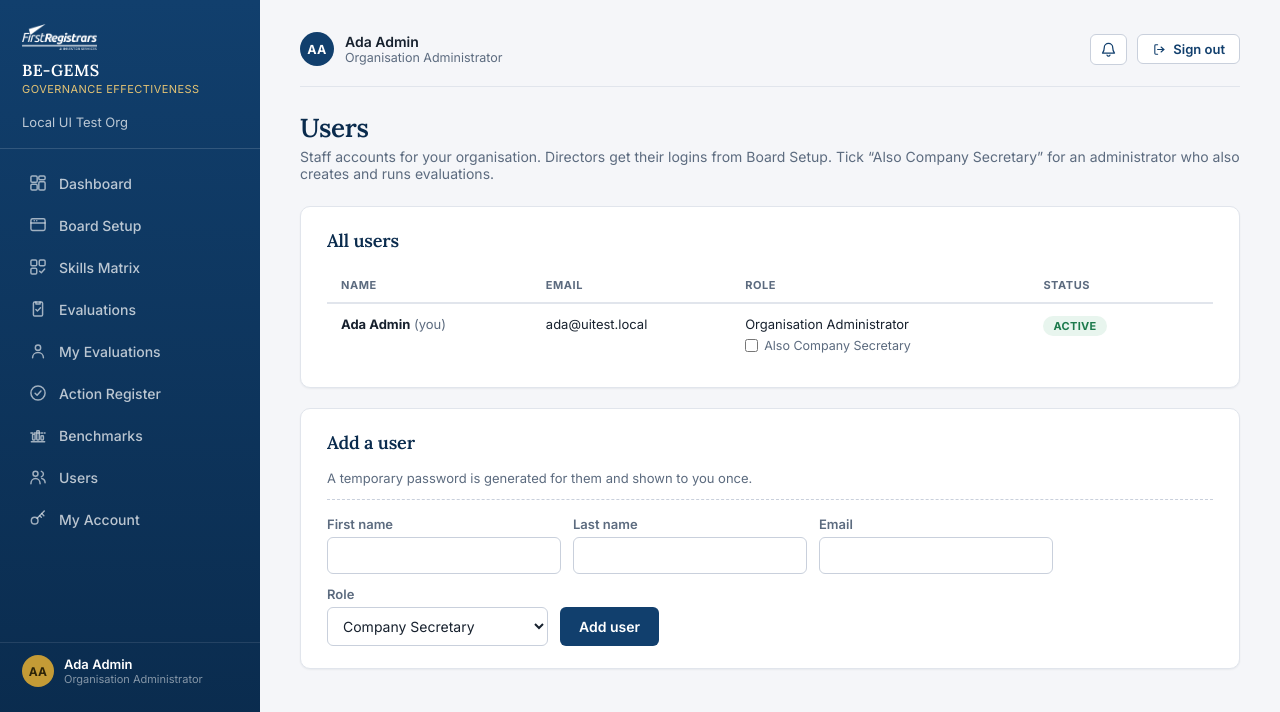
Test: UsersPage › creates a user and shows their temporary password once
Type "Cara" into the field labelled "First name" at (444, 556), box [327,537,561,574]
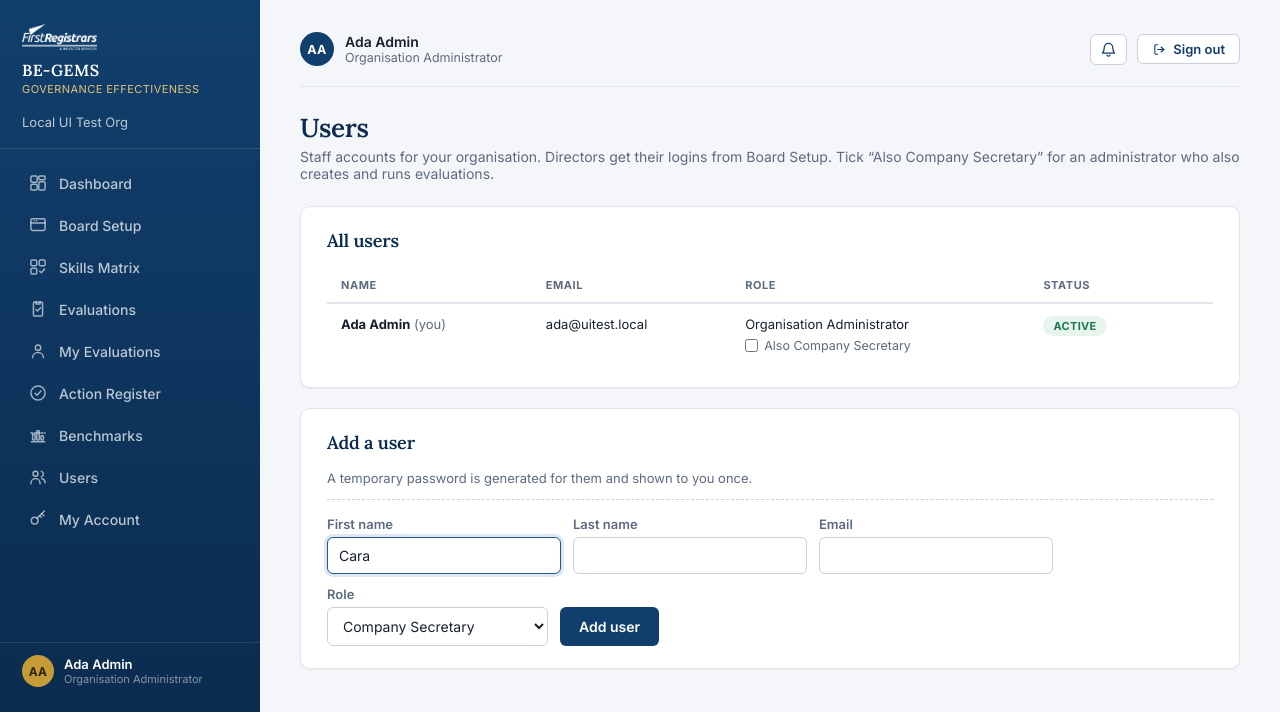
Type "Secretary" into the field labelled "Last name" at (690, 556), box [573,537,807,574]
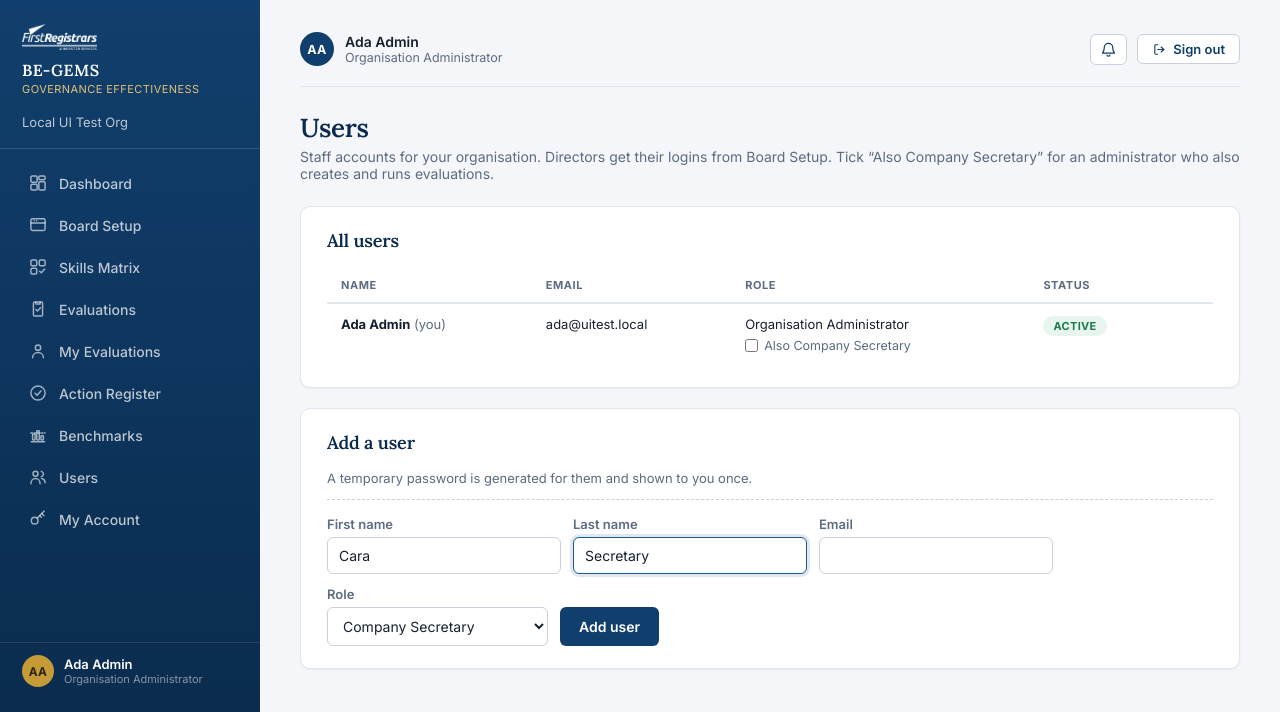
Type "cara@uitest.local" into the field labelled "Email" at (936, 556), box [819,537,1053,574]
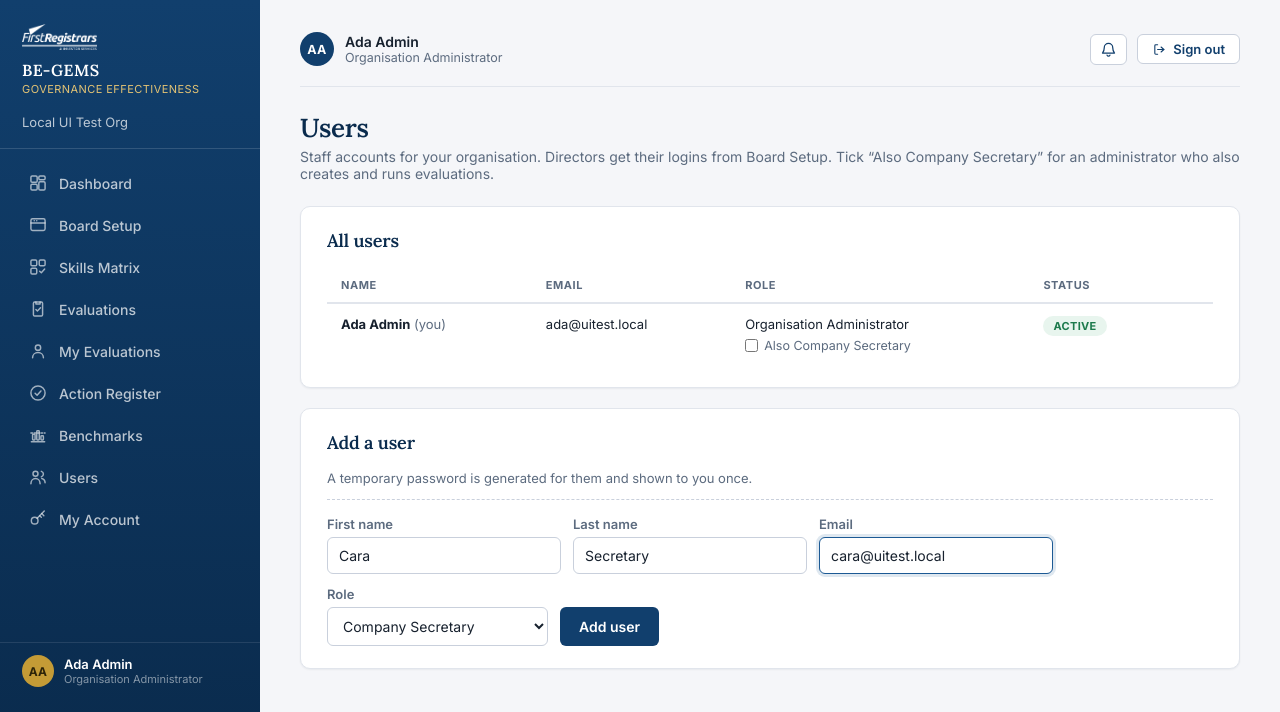
Click the button "Add user" at (610, 626), box [560,607,659,646]
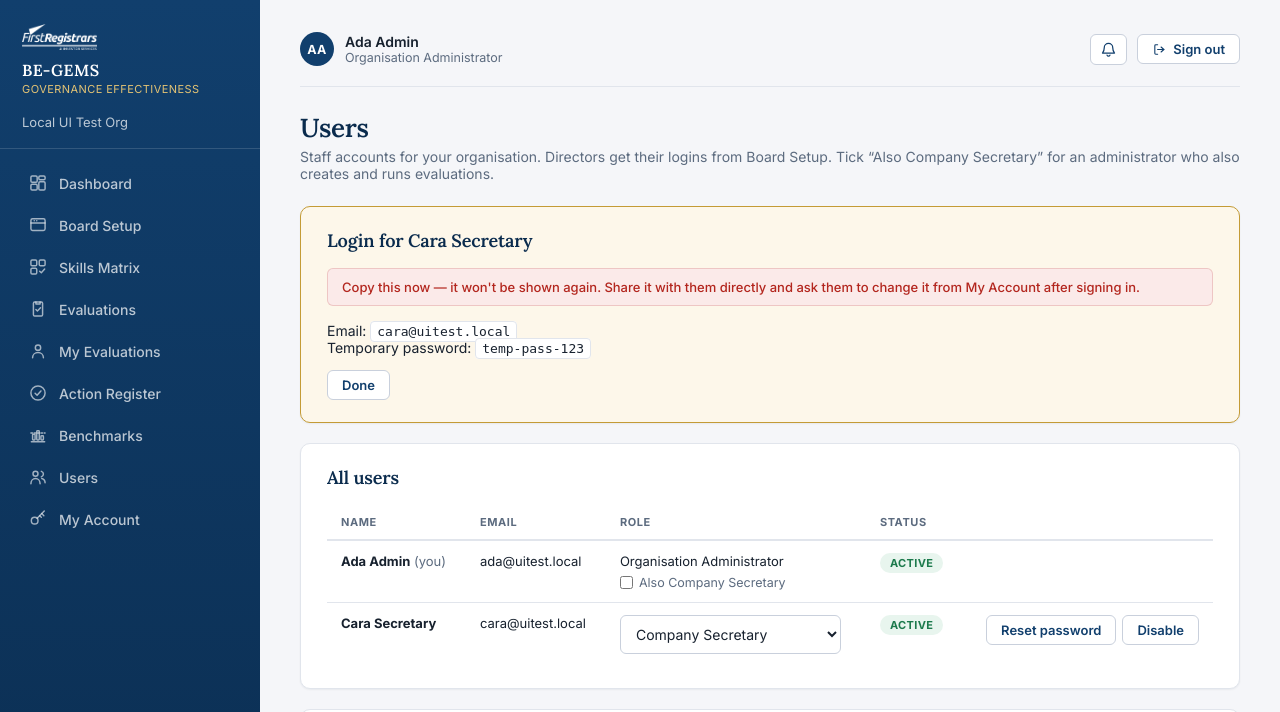
Now the text "temp-pass-123" is shown, box [475,338,591,359]
Now the heading "Login for Cara Secretary" is shown, box [327,229,532,252]
